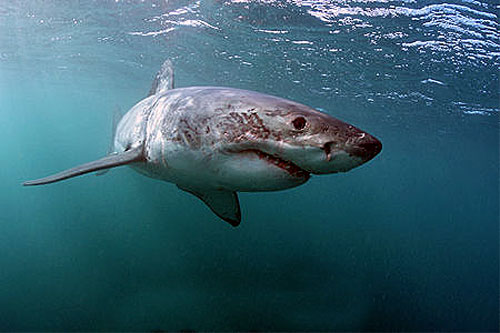Carcharodon_carcharias: (17, 58, 391, 237)
